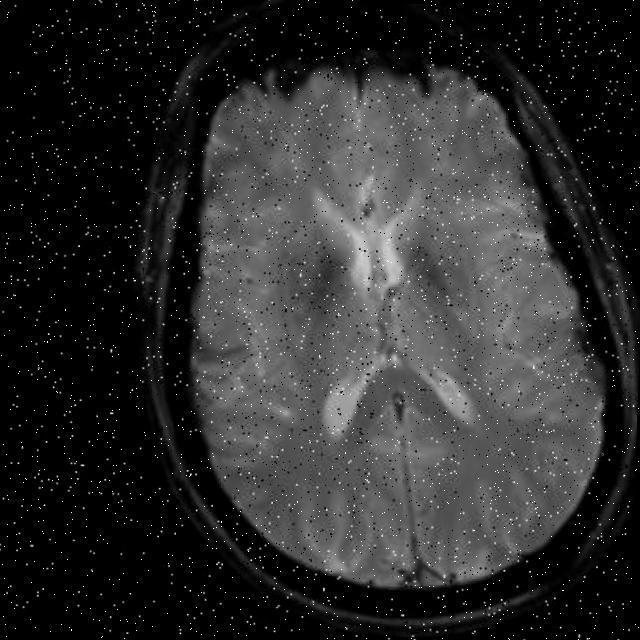LMCI: (382, 246, 506, 332)
MCI: (266, 230, 338, 298)
